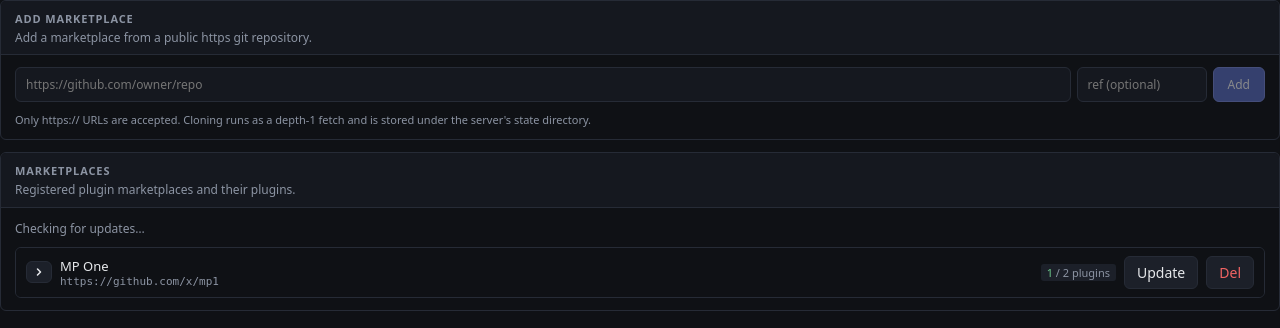
Test: MarketplaceTab update-check states › a slow check resolving after a per-card refresh does not resurrect the cleared badge
Click the button "Update": (1161, 272) top-left (1124, 256), bottom-right (1198, 289)
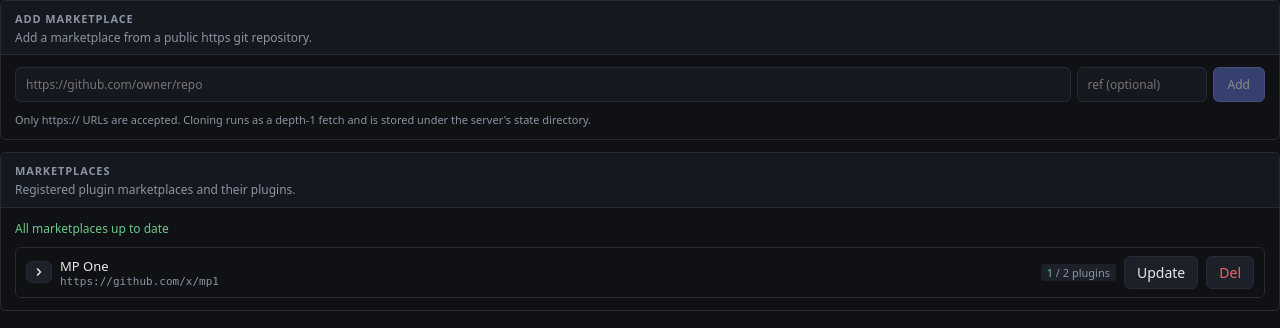
Expected: the text "All marketplaces up to date" is shown, top-left (15, 220), bottom-right (169, 237)
